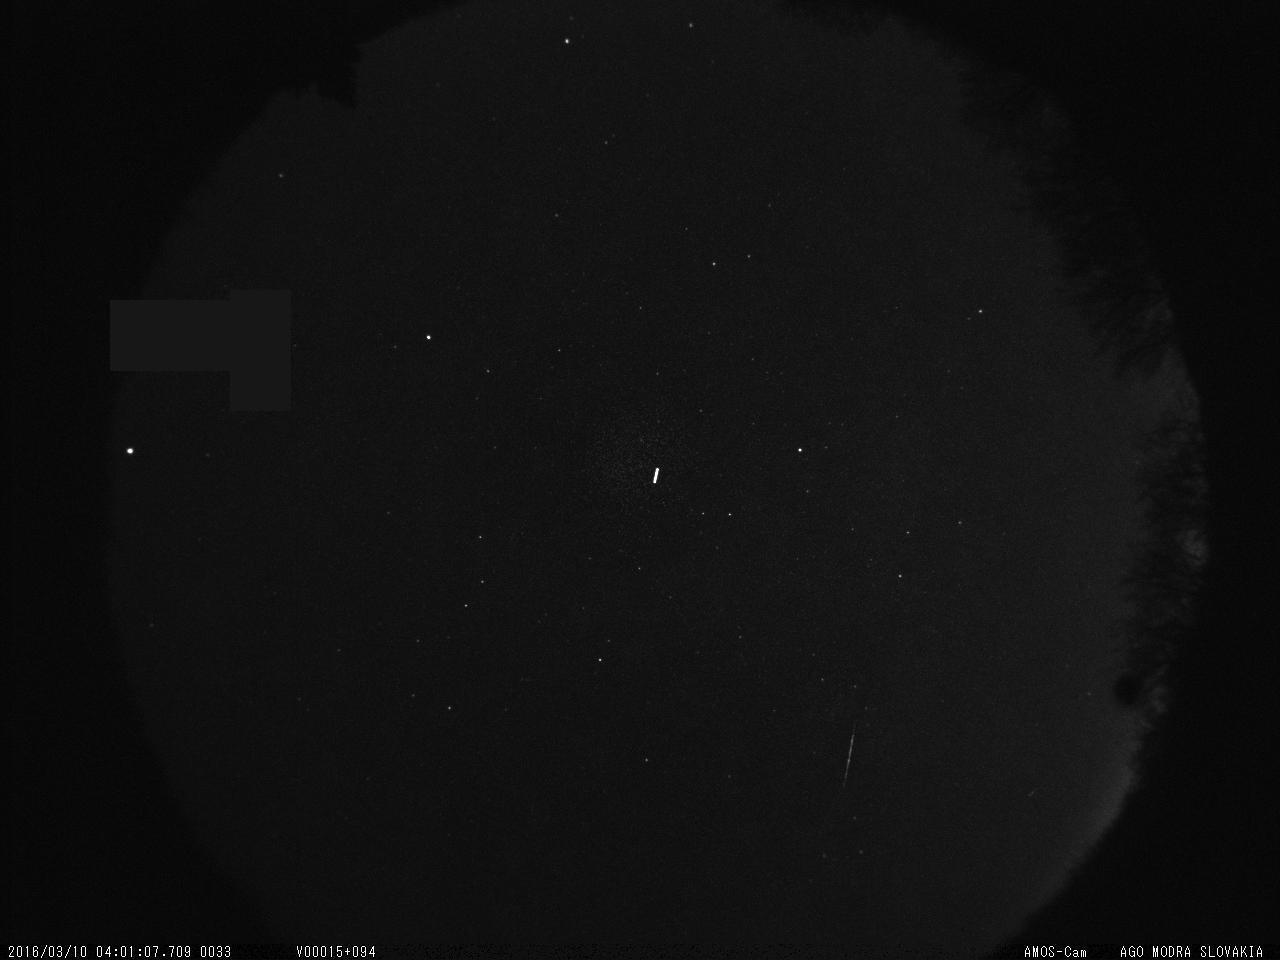meteor: (833, 712, 869, 793)
